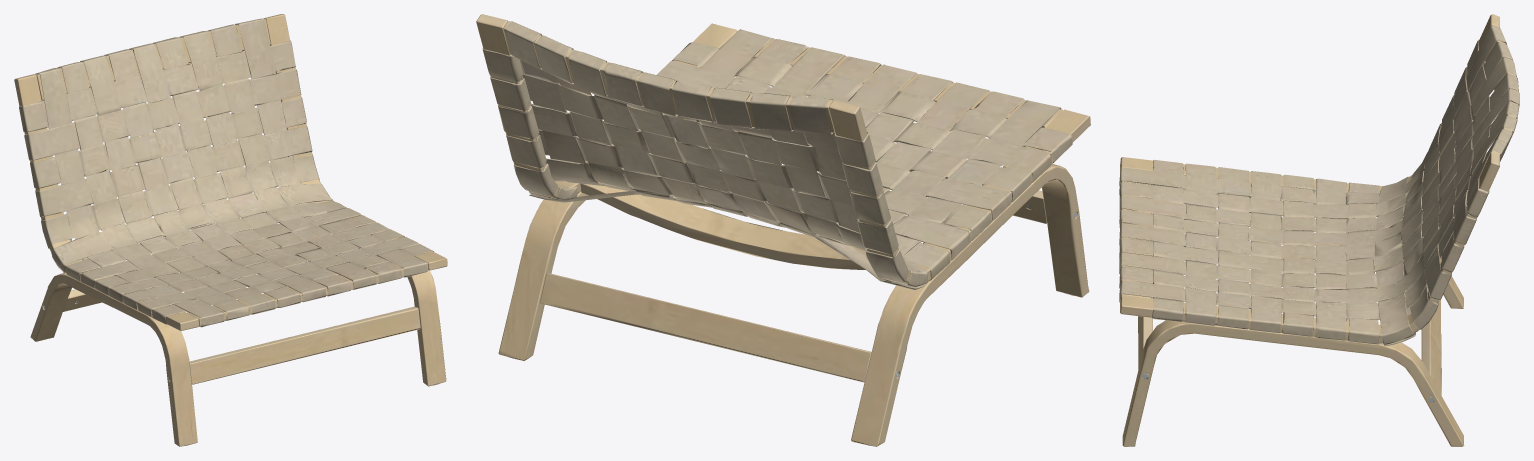
3 renders of one model, left to right at view 1: azimuth 30°, elevation 25°; view 2: azimuth 150°, elevation 25°; view 3: azimuth 270°, elevation 25°, orthographic. The views are drawn at different scales.
Parts seen in each view (by area): view 1: ASY_LPT01_80594785_S01_NV01, ASY_ART_80594785_S01_NV01; view 2: ASY_LPT01_80594785_S01_NV01, ASY_ART_80594785_S01_NV01; view 3: ASY_LPT01_80594785_S01_NV01, ASY_ART_80594785_S01_NV01.
Part boxes in pixels (x1,y1,x2,y2): ASY_LPT01_80594785_S01_NV01: [14, 14, 447, 330]; ASY_ART_80594785_S01_NV01: [30, 270, 446, 446]; ASY_LPT01_80594785_S01_NV01: [476, 14, 1090, 289]; ASY_ART_80594785_S01_NV01: [498, 161, 1089, 446]; ASY_LPT01_80594785_S01_NV01: [1119, 14, 1519, 345]; ASY_ART_80594785_S01_NV01: [1122, 188, 1464, 446].
Bounding box in the file's own units: 0.705 × 0.6285 × 0.7956.
2 materials, 2 textured.
